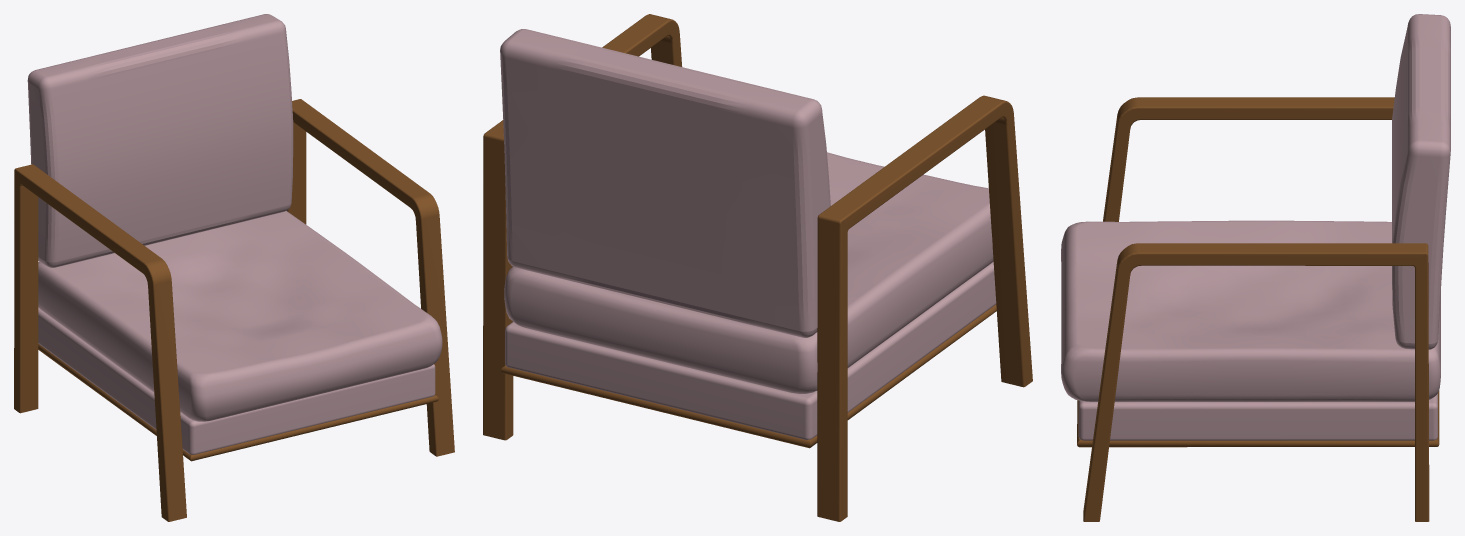
File: tourLounge_cushionedChair.fbx
The picture shows the model from 3 angles, left to right: view 1: azimuth 30°, elevation 25°; view 2: azimuth 150°, elevation 25°; view 3: azimuth 270°, elevation 25°; orthographic projection. The views are drawn at different scales.
Visible parts, largest first — view 1: polySurface25; view 2: polySurface25; view 3: polySurface25.
Boxes of the visible parts, <box> form: polySurface25: <box>14,14,454,521</box>; polySurface25: <box>483,14,1032,521</box>; polySurface25: <box>1061,14,1450,521</box>.
Bounding box in the file's own units: 34.96 × 38.24 × 36.86.
